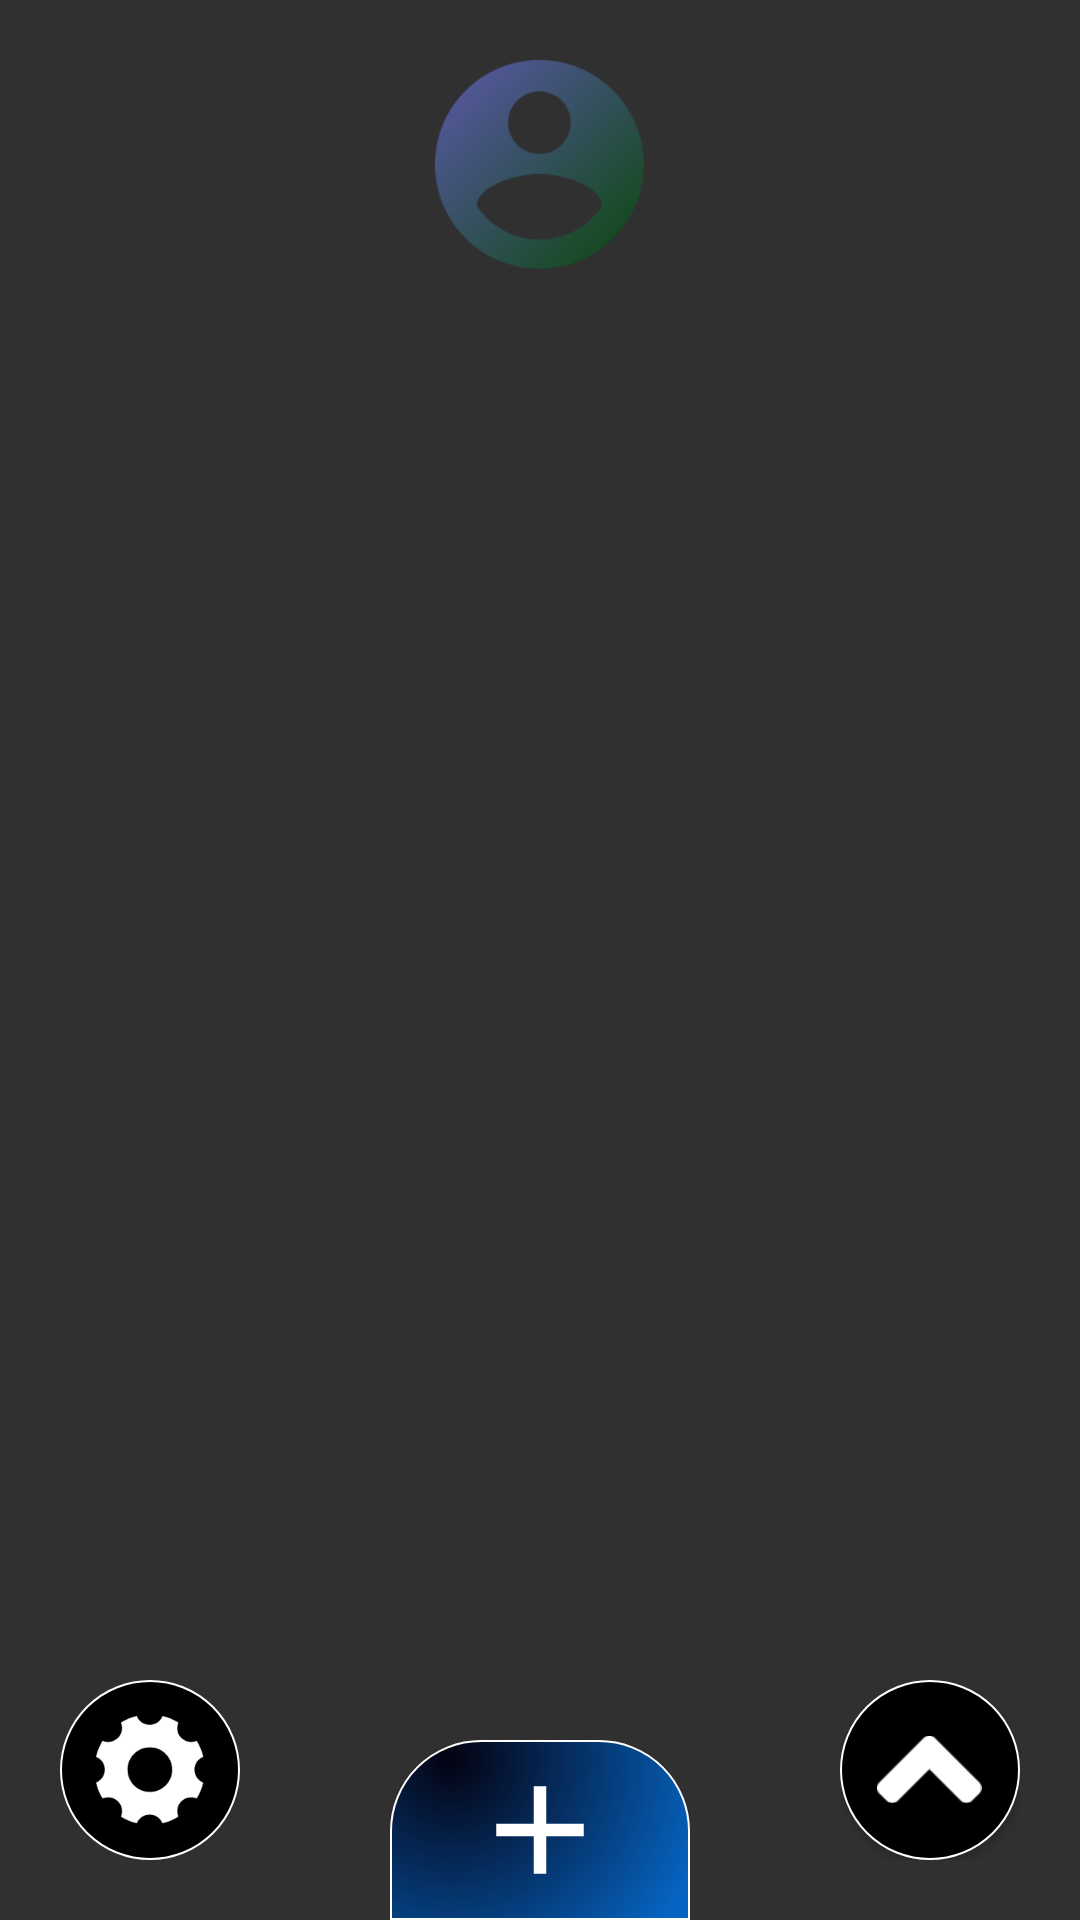

Where to tap for icons on this 1080×1920 app screen, as point (x, y):
settings: point (150, 1770)
